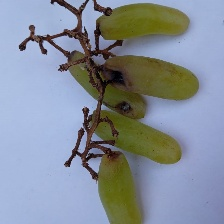grapes: (50, 34, 205, 173)
